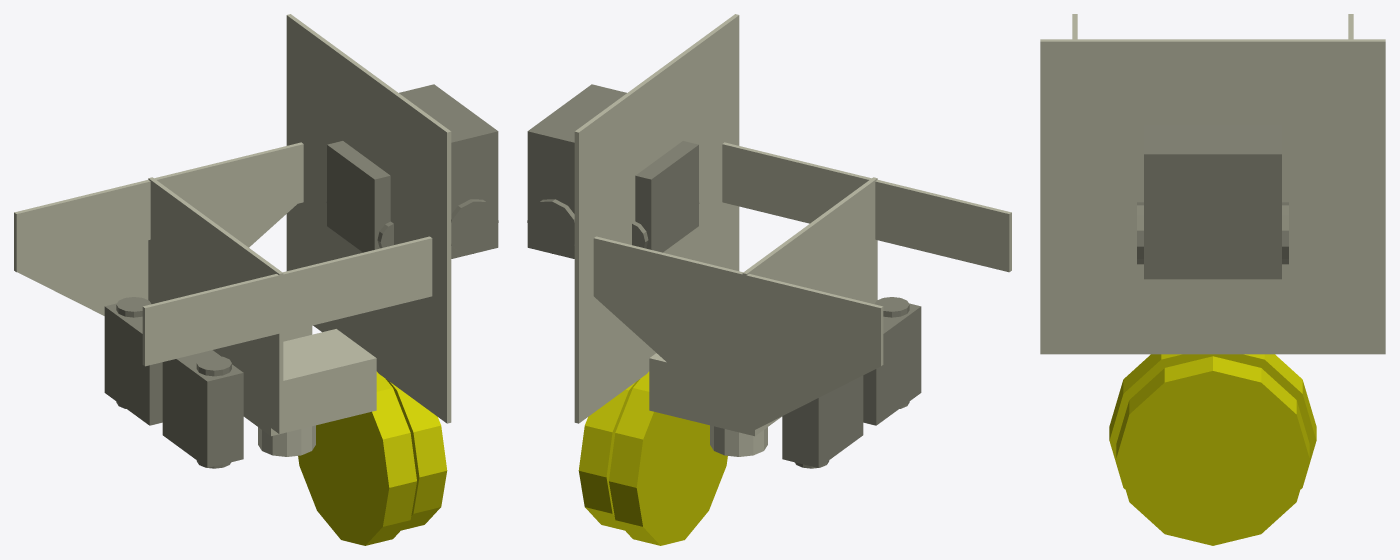
File: _head-neck-p.glb
The picture shows the model from 3 angles, left to right: view 1: azimuth 30°, elevation 25°; view 2: azimuth 150°, elevation 25°; view 3: azimuth 270°, elevation 25°; orthographic projection. The views are drawn at different scales.
Size of the model in its own units: 0.139 by 0.158 by 0.1.
